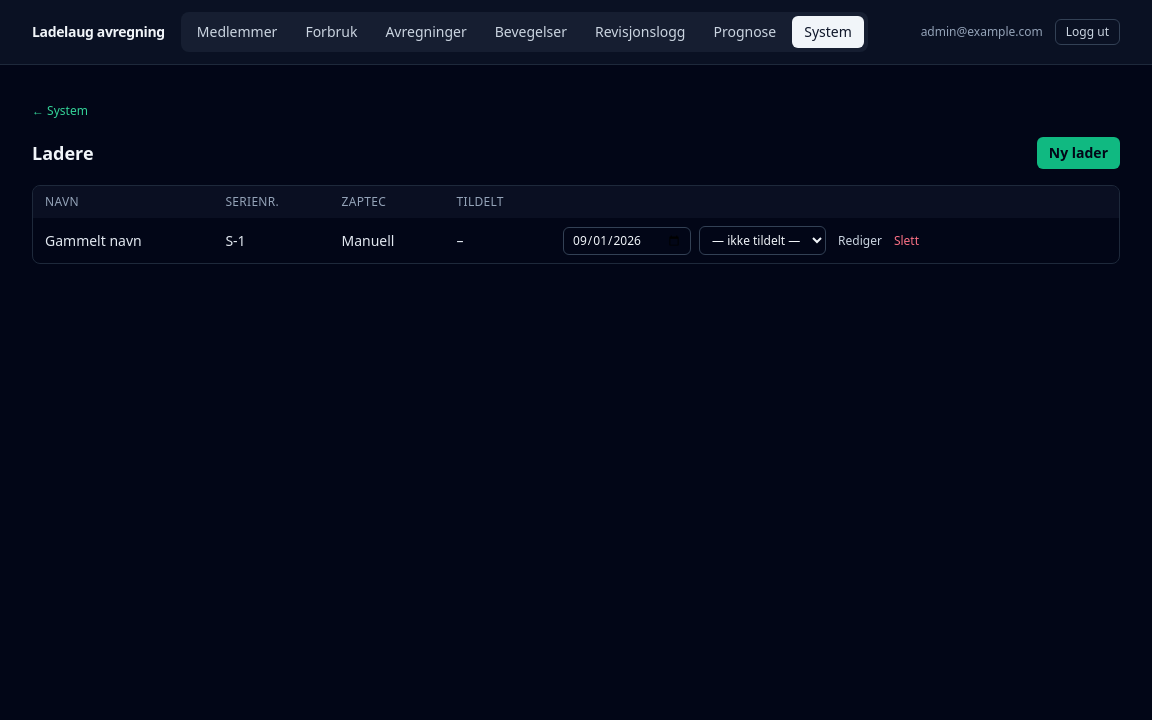
Test: Chargers (admin) › edits a charger row
Click the button "Rediger" at {"x": 860, "y": 240}, box [838,232,882,248]
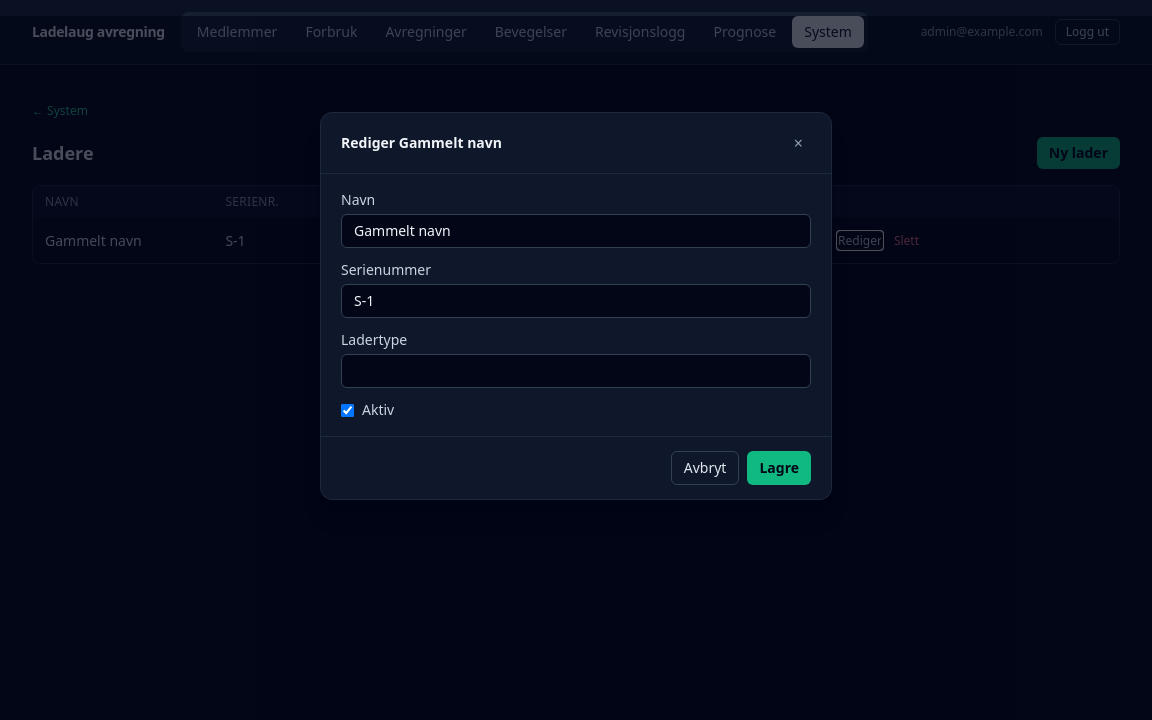
Replace the text in the field labelled "Navn" with "Nytt navn" at {"x": 576, "y": 231}, box [341,214,811,248]
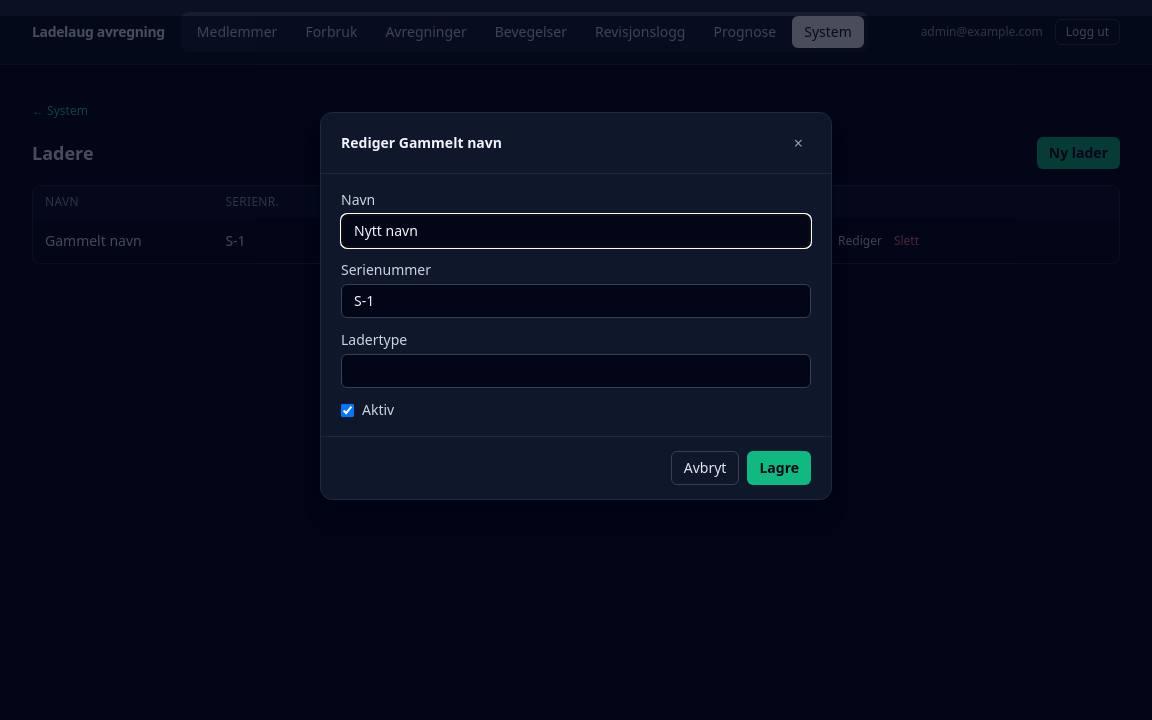
Click the button "Lagre" at {"x": 779, "y": 468}, box [747,451,811,485]
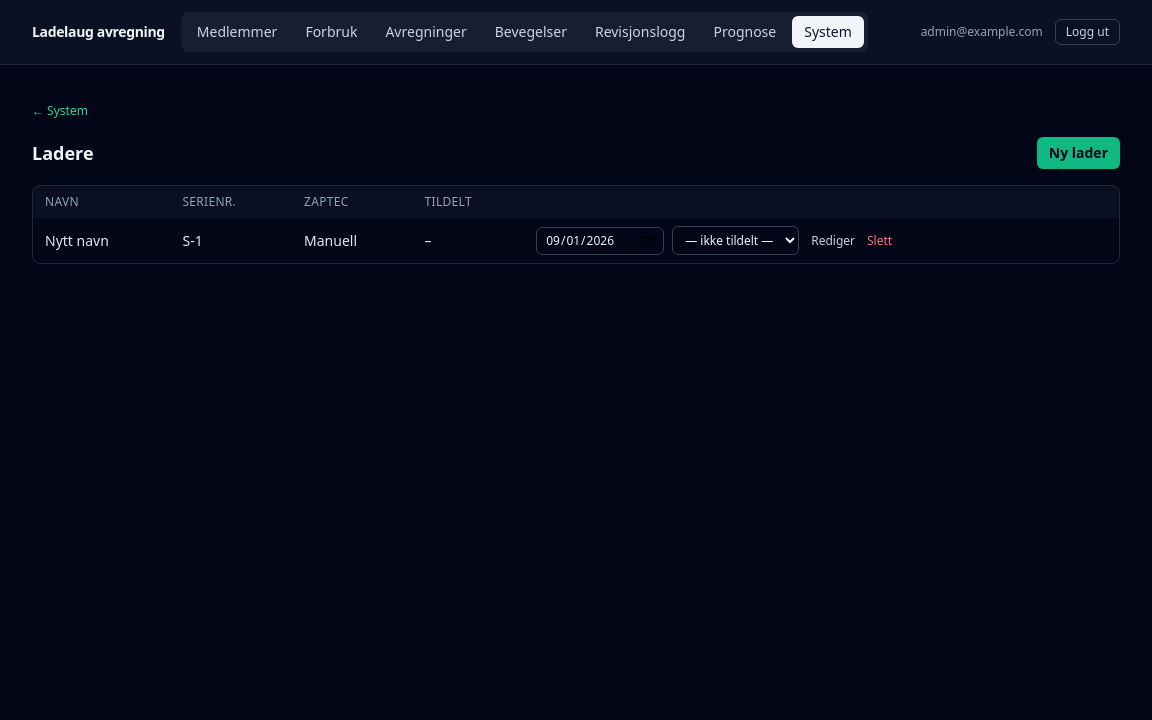
expect the text "Nytt navn" is shown: met, box [33,218,170,263]
expect the text "Gammelt navn" is gone: met
